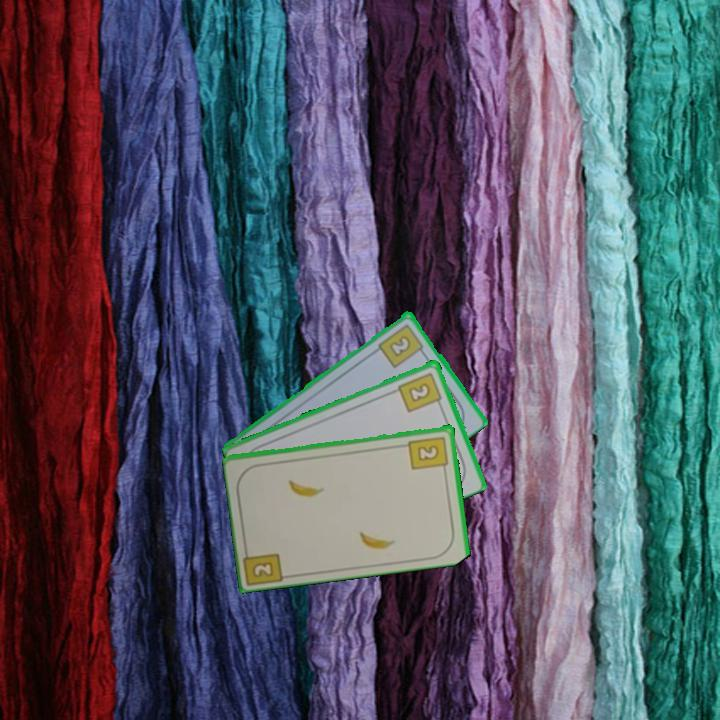2b: (375, 320, 428, 370), (395, 369, 445, 415), (241, 542, 287, 586), (406, 433, 451, 474)
